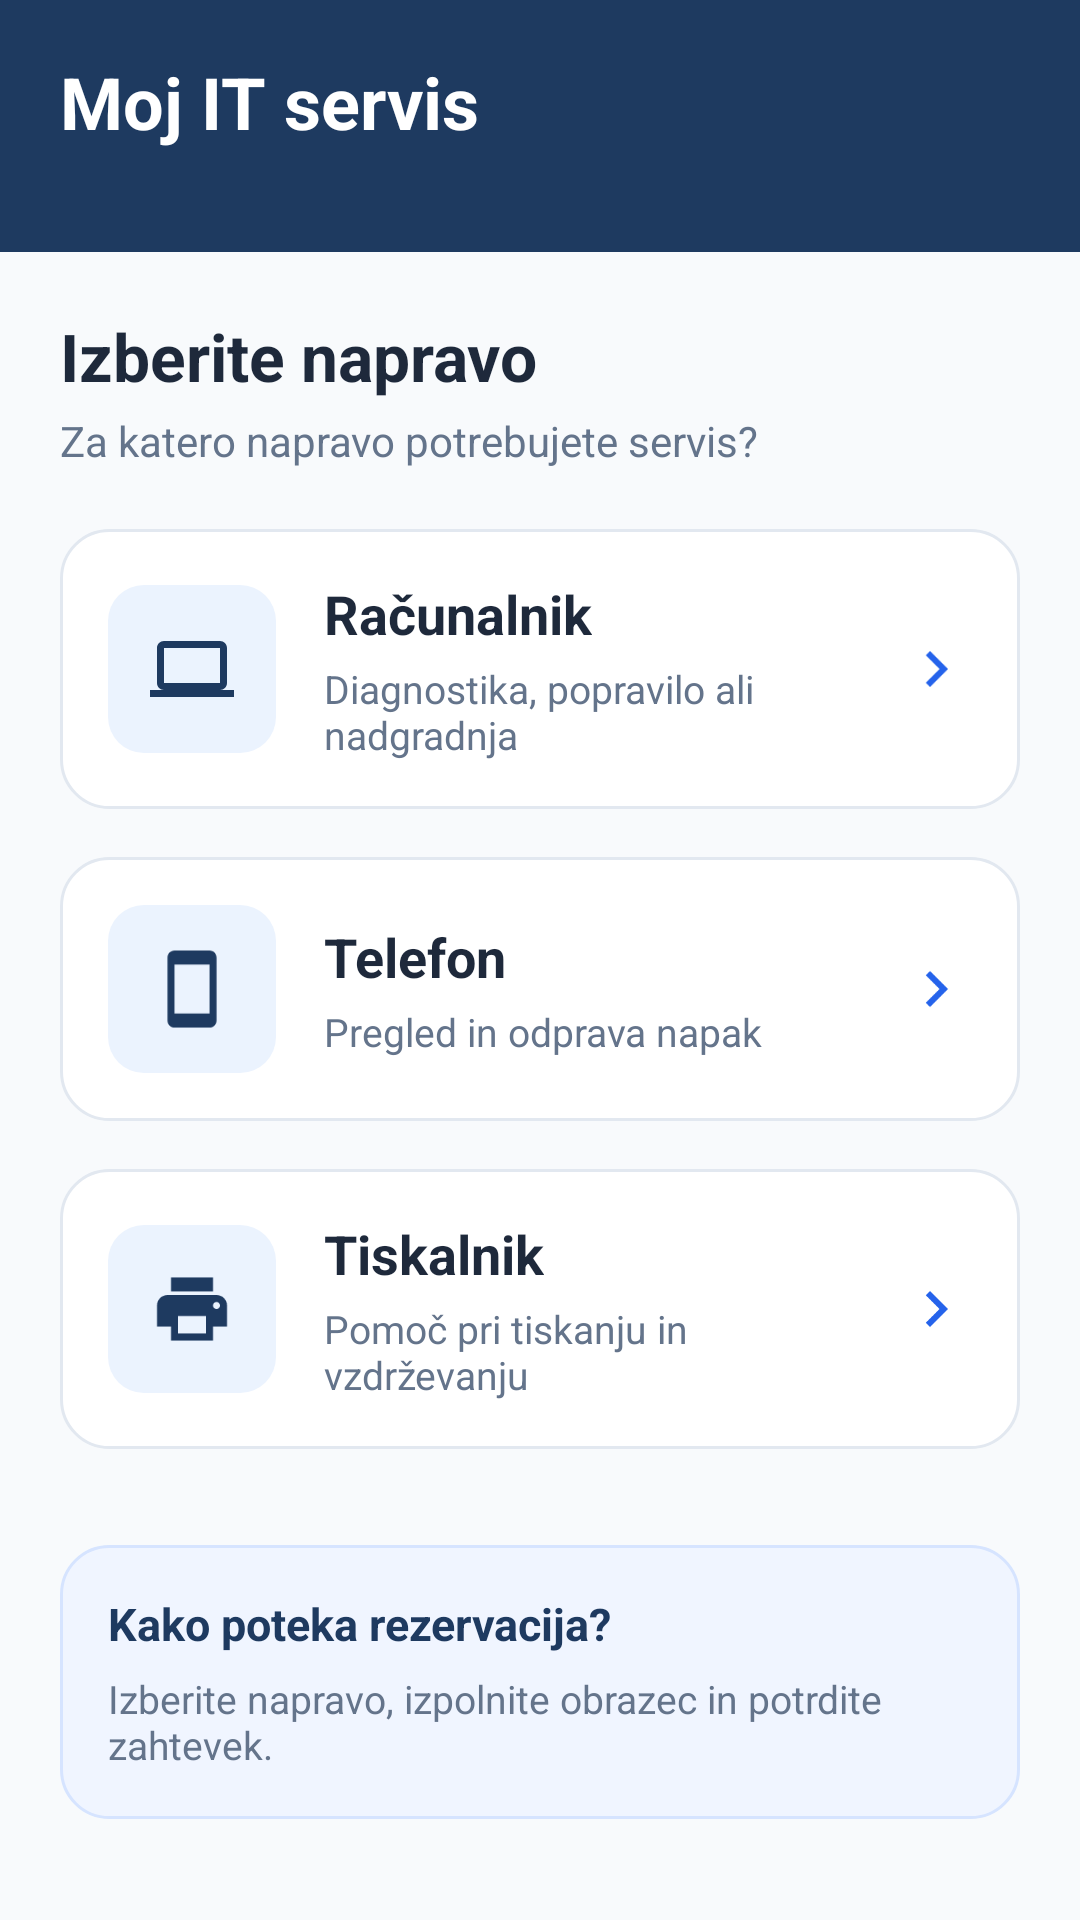

Locate icon controls on the screen. Image size 1080 × 1920, boxes as (left=x1, top=y1, right=x2, bottom=y2).
chevron right: (left=926, top=651, right=948, bottom=687), (left=926, top=971, right=948, bottom=1007), (left=926, top=1291, right=948, bottom=1327)
